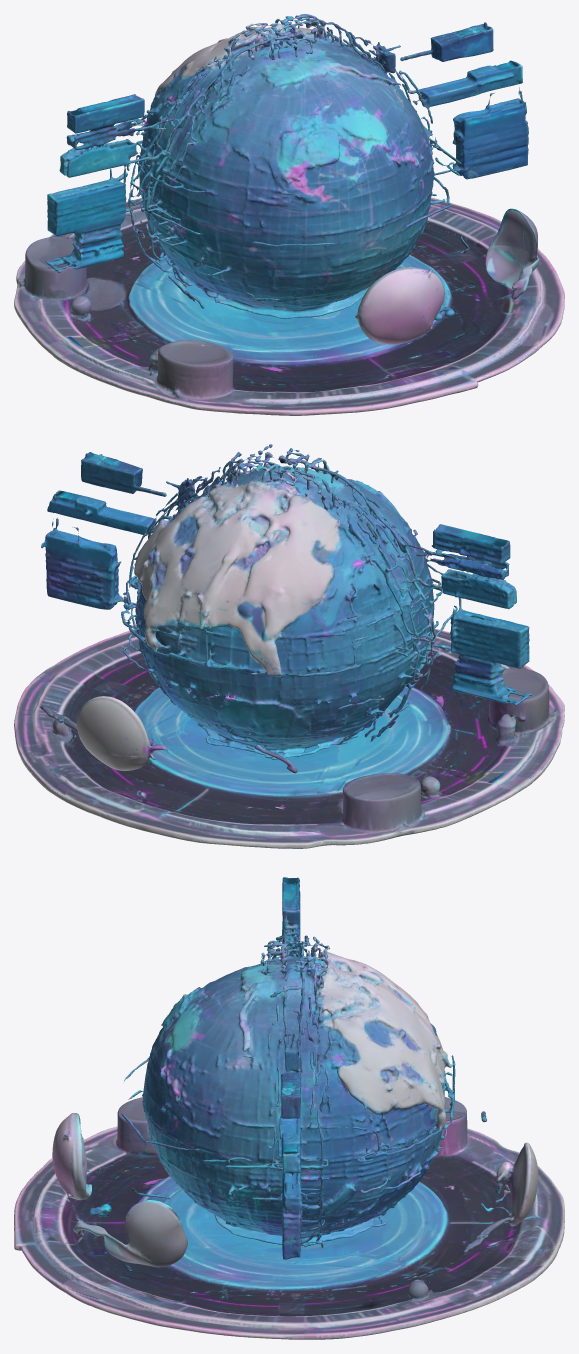
File: globe-lite.glb
3 views of the same model, one above another, from view 1: azimuth 30°, elevation 25°; view 2: azimuth 150°, elevation 25°; view 3: azimuth 270°, elevation 25° (orthographic).
Size of the model in its own units: 1.99 by 1.2 by 2.
Materials: 1 (1 with a texture image).
